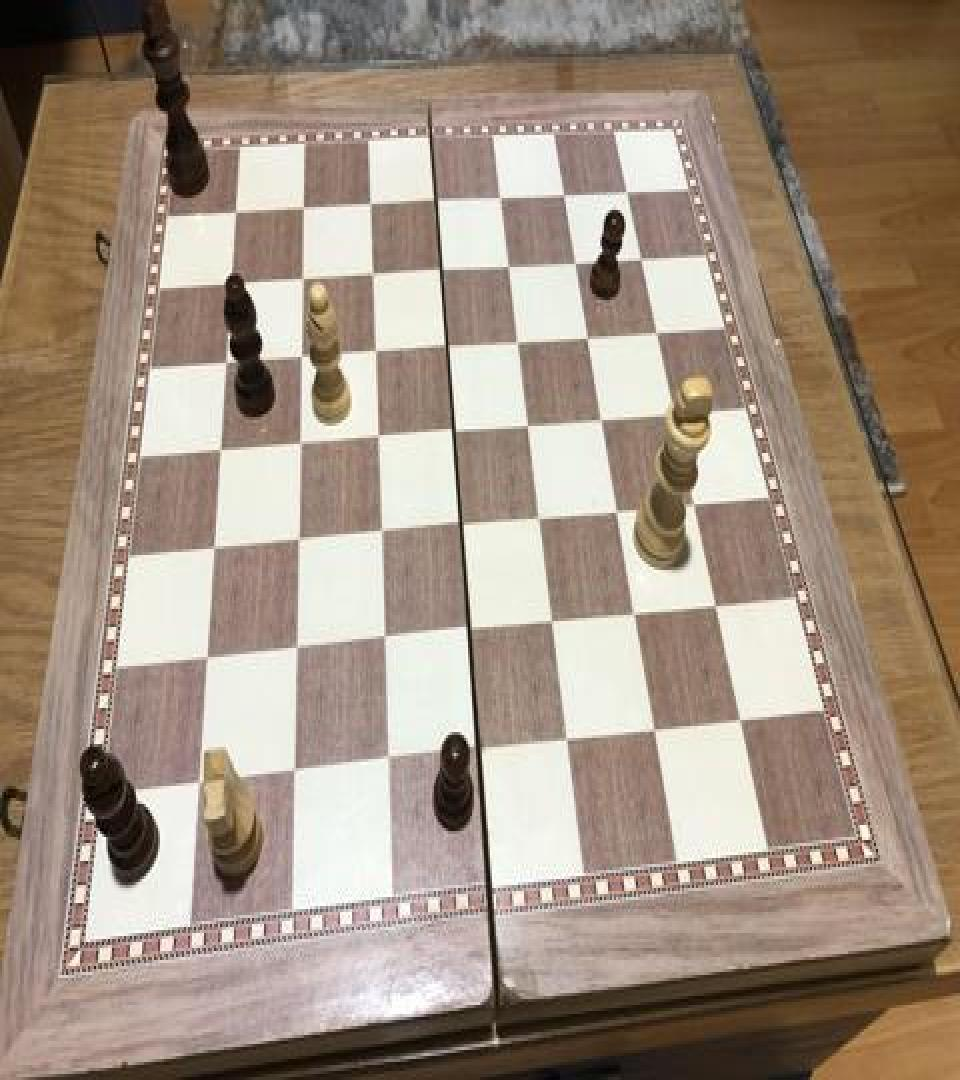xcorner: (643, 712, 667, 749), (186, 769, 210, 806), (614, 176, 638, 212), (551, 178, 575, 214), (488, 183, 512, 219), (423, 186, 447, 222), (357, 190, 381, 226), (290, 195, 314, 231), (222, 198, 246, 234), (629, 242, 653, 278), (563, 246, 587, 282), (496, 250, 520, 286), (428, 255, 452, 291), (289, 266, 313, 302), (218, 270, 242, 306), (645, 315, 669, 351), (576, 321, 600, 357), (506, 326, 530, 362), (434, 332, 458, 368), (362, 338, 386, 374), (288, 342, 312, 378), (213, 348, 237, 384), (662, 398, 686, 434), (590, 404, 614, 440), (516, 410, 540, 446), (441, 416, 465, 452), (364, 423, 388, 459), (287, 429, 311, 465), (207, 436, 231, 472), (682, 488, 706, 524), (606, 495, 630, 531), (528, 502, 552, 538), (448, 510, 472, 546), (367, 518, 391, 554), (285, 525, 309, 561), (201, 534, 225, 570), (704, 588, 728, 624), (623, 597, 647, 633), (541, 606, 565, 642), (457, 615, 481, 651), (371, 624, 395, 660), (283, 634, 307, 670), (194, 644, 218, 680), (729, 702, 753, 738), (555, 723, 579, 759), (466, 735, 490, 771), (375, 746, 399, 782), (282, 758, 306, 794), (359, 260, 383, 295)
